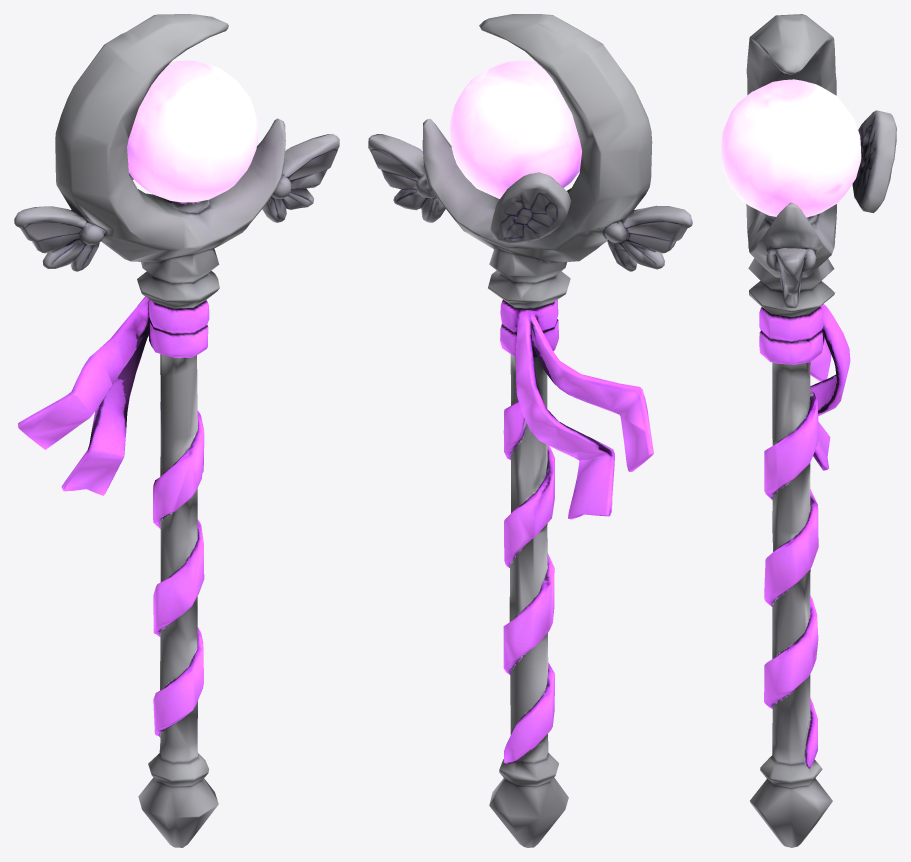
Rendered from UqQueen_Staff-B90wK-Uh.glb.
3 renders of one model, left to right at view 1: azimuth 30°, elevation 25°; view 2: azimuth 150°, elevation 25°; view 3: azimuth 270°, elevation 25°, orthographic.
Visible parts, largest first — view 1: tripo_node_23a08b83-65fc-490a-bc64-f211d89a36f0; view 2: tripo_node_23a08b83-65fc-490a-bc64-f211d89a36f0; view 3: tripo_node_23a08b83-65fc-490a-bc64-f211d89a36f0.
Part boxes in pixels (x1,y1,x2,y2): tripo_node_23a08b83-65fc-490a-bc64-f211d89a36f0: (14, 14, 339, 847); tripo_node_23a08b83-65fc-490a-bc64-f211d89a36f0: (368, 14, 692, 847); tripo_node_23a08b83-65fc-490a-bc64-f211d89a36f0: (721, 14, 896, 847).
Bounding box in the file's own units: 0.8976 × 2.2 × 0.4298.
1 material, 1 textured.
